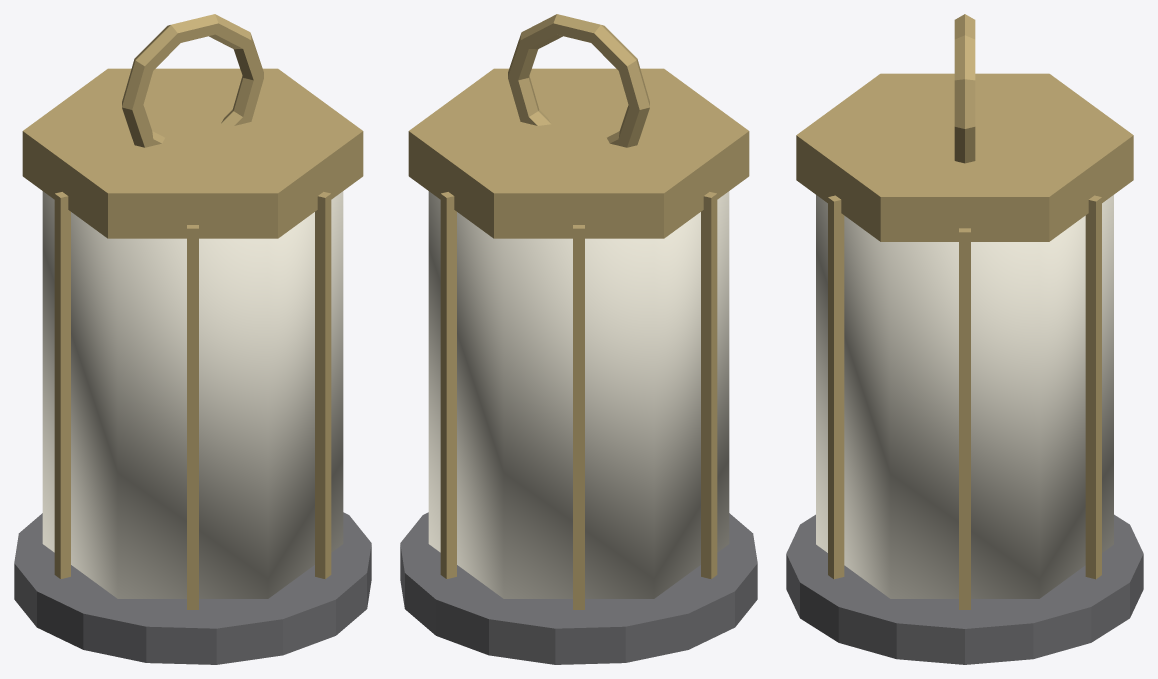
Rendered from LL_Lantern.fbx.
3 renders of one model, left to right at view 1: azimuth 30°, elevation 25°; view 2: azimuth 150°, elevation 25°; view 3: azimuth 270°, elevation 25°, orthographic.
Visible parts, largest first — view 1: LL_Lantern_Glass, LL_Lantern_Top, LL_Lantern_Base, LL_Lantern_Handle, LL_Lantern_Bar_3, LL_Lantern_Bar_5, LL_Lantern_Bar_4; view 2: LL_Lantern_Glass, LL_Lantern_Top, LL_Lantern_Base, LL_Lantern_Handle, LL_Lantern_Bar_1, LL_Lantern_Bar_3, LL_Lantern_Bar_2; view 3: LL_Lantern_Glass, LL_Lantern_Top, LL_Lantern_Base, LL_Lantern_Bar_1, LL_Lantern_Bar_5, LL_Lantern_Bar_0, LL_Lantern_Handle.
Part boxes in pixels (left/top/right/bottom): LL_Lantern_Glass: left=42, top=191, right=343, bottom=598; LL_Lantern_Top: left=22, top=68, right=363, bottom=238; LL_Lantern_Base: left=14, top=512, right=371, bottom=664; LL_Lantern_Handle: left=122, top=14, right=263, bottom=147; LL_Lantern_Bar_3: left=54, top=192, right=70, bottom=578; LL_Lantern_Bar_5: left=315, top=192, right=331, bottom=578; LL_Lantern_Bar_4: left=187, top=225, right=198, bottom=609; LL_Lantern_Glass: left=428, top=191, right=729, bottom=598; LL_Lantern_Top: left=408, top=68, right=749, bottom=238; LL_Lantern_Base: left=400, top=512, right=757, bottom=664; LL_Lantern_Handle: left=508, top=14, right=649, bottom=147; LL_Lantern_Bar_1: left=440, top=192, right=456, bottom=578; LL_Lantern_Bar_3: left=701, top=192, right=717, bottom=578; LL_Lantern_Bar_2: left=573, top=225, right=584, bottom=609; LL_Lantern_Glass: left=816, top=195, right=1113, bottom=598; LL_Lantern_Top: left=796, top=73, right=1133, bottom=241; LL_Lantern_Base: left=786, top=514, right=1143, bottom=664; LL_Lantern_Bar_1: left=1085, top=195, right=1101, bottom=579; LL_Lantern_Bar_5: left=828, top=195, right=844, bottom=579; LL_Lantern_Bar_0: left=959, top=228, right=970, bottom=609; LL_Lantern_Handle: left=954, top=14, right=975, bottom=163.
Size of the model in its own units: 0.36 by 0.628 by 0.36.
